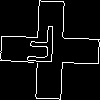F: (25, 25, 57, 72)
